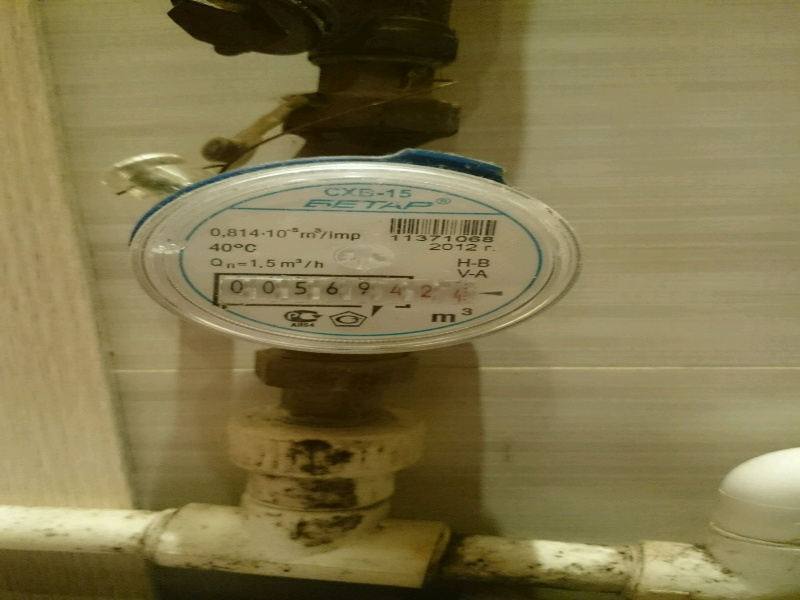dial: (219, 275, 468, 308)
